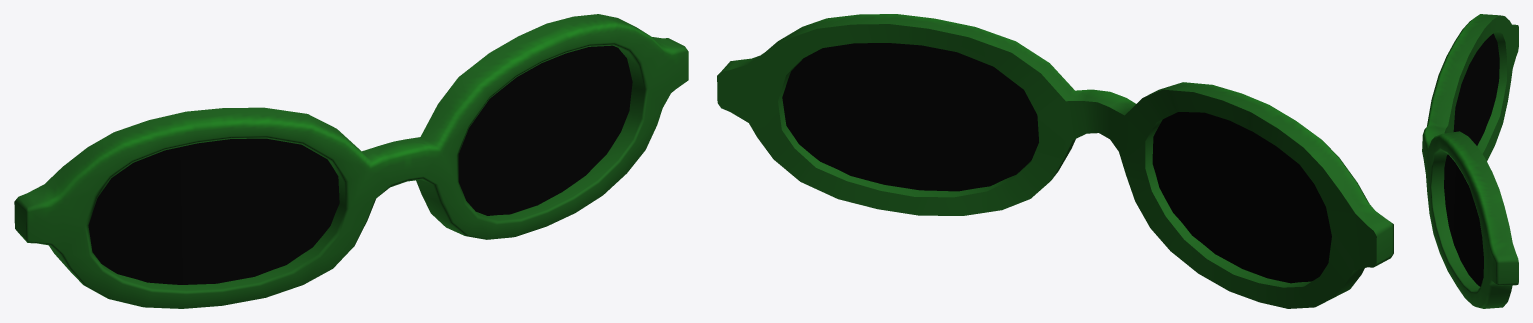
The model's file is AccessoryGlassOval0.glb.
3 views of the same model, side by side, from view 1: azimuth 30°, elevation 25°; view 2: azimuth 150°, elevation 25°; view 3: azimuth 270°, elevation 25° (orthographic). The views are drawn at different scales.
Parts seen in each view (by area): view 1: Accessory__mAccessory, AccessoryAlpha1__mAccessoryAlpha; view 2: AccessoryAlpha1__mAccessoryAlpha, Accessory__mAccessory; view 3: Accessory__mAccessory, AccessoryAlpha1__mAccessoryAlpha.
Boxes of the visible parts, x1,y1,x2,y2 form: Accessory__mAccessory: (14,14,688,308); AccessoryAlpha1__mAccessoryAlpha: (88,45,632,284); AccessoryAlpha1__mAccessoryAlpha: (782,43,1331,283); Accessory__mAccessory: (717,14,1393,308); Accessory__mAccessory: (1422,14,1518,308); AccessoryAlpha1__mAccessoryAlpha: (1444,33,1499,286).
Size of the model in its own units: 6.51 by 1.76 by 1.12.
Materials: 2 (2 with a texture image).
